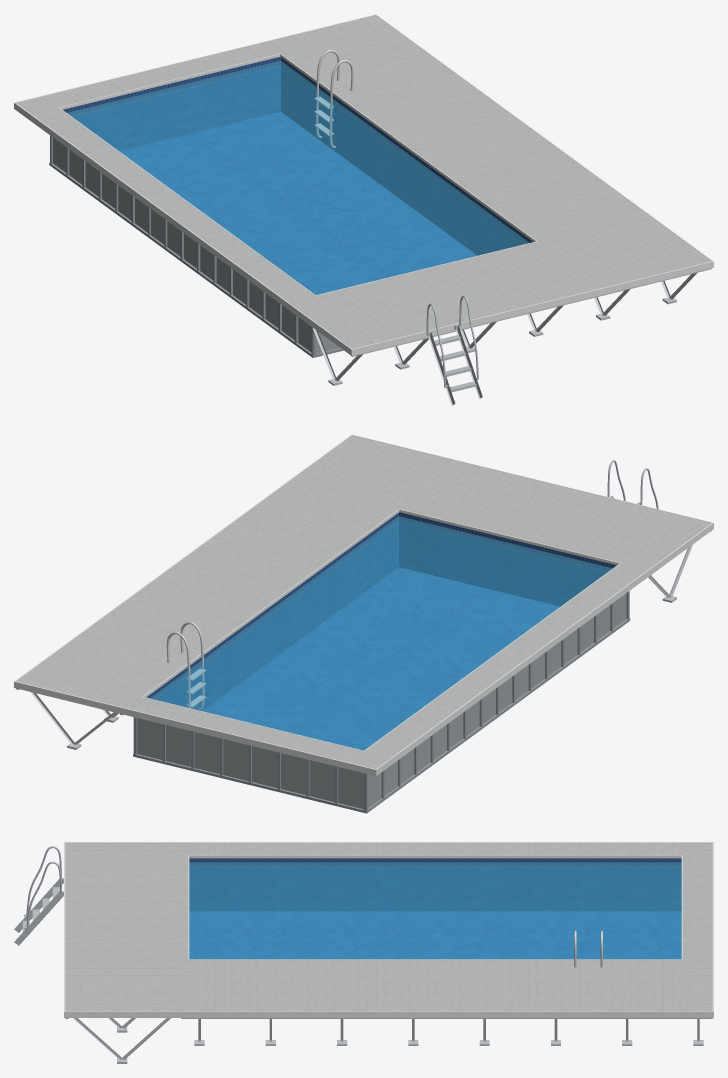
File: kayak-pool-16x32-gray-endside-ag-nofence.01930e428e.glb
The picture shows the model from 3 angles, top to bottom: view 1: azimuth 30°, elevation 25°; view 2: azimuth 150°, elevation 25°; view 3: azimuth 270°, elevation 25°; orthographic projection. The views are drawn at different scales.
Parts seen in each view (by area): view 1: deck, water, liner_floor, liner_wall, fascia, wall, upright, stud, ladder, steel; view 2: deck, water, liner_floor, liner_wall, wall, fascia, upright, stud, steel; view 3: deck, water, liner_wall, liner_floor, fascia, stud, ladder.
Boxes of the visible parts, bbox=[...] form: deck: bbox=[16, 15, 711, 348]; water: bbox=[67, 61, 529, 294]; liner_floor: bbox=[119, 112, 476, 294]; liner_wall: bbox=[63, 57, 532, 255]; fascia: bbox=[14, 14, 713, 355]; wall: bbox=[53, 137, 339, 353]; upright: bbox=[49, 135, 343, 357]; stud: bbox=[291, 268, 711, 385]; ladder: bbox=[426, 295, 482, 405]; steel: bbox=[314, 49, 353, 148]; deck: bbox=[16, 435, 711, 768]; water: bbox=[150, 516, 612, 750]; liner_floor: bbox=[203, 567, 559, 750]; liner_wall: bbox=[146, 512, 616, 710]; wall: bbox=[137, 593, 626, 809]; fascia: bbox=[14, 434, 713, 775]; upright: bbox=[133, 591, 630, 813]; stud: bbox=[16, 531, 711, 749]; steel: bbox=[166, 621, 206, 710]; deck: bbox=[65, 842, 712, 1011]; water: bbox=[189, 862, 681, 959]; liner_wall: bbox=[189, 858, 681, 911]; liner_floor: bbox=[189, 911, 681, 959]; fascia: bbox=[64, 842, 713, 1017]; stud: bbox=[65, 1018, 712, 1063]; ladder: bbox=[14, 846, 63, 945].
Bounding box in the file's own units: 7.93 × 1.9 × 13.79.
Materials: 10 (3 with a texture image).
